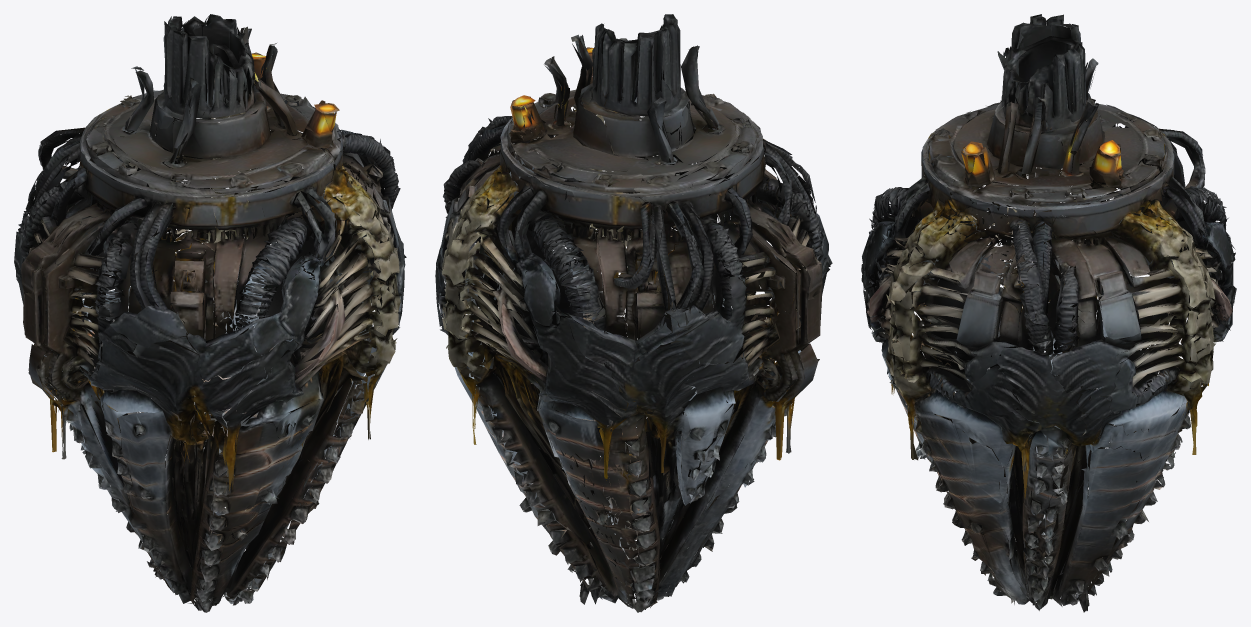
Rendered from sector_zero_bore_drillhead.glb.
3 views of the same model, side by side, from view 1: azimuth 30°, elevation 25°; view 2: azimuth 150°, elevation 25°; view 3: azimuth 270°, elevation 25° (orthographic). The views are drawn at different scales.
Parts seen in each view (by area): view 1: node_0; view 2: node_0; view 3: node_0.
Boxes of the visible parts, x1,y1,x2,y2 form: node_0: (14, 14, 406, 612); node_0: (435, 14, 832, 612); node_0: (861, 14, 1236, 612).
Size of the model in its own units: 0.782 by 1.19 by 0.7141.
1 material, 1 textured.
